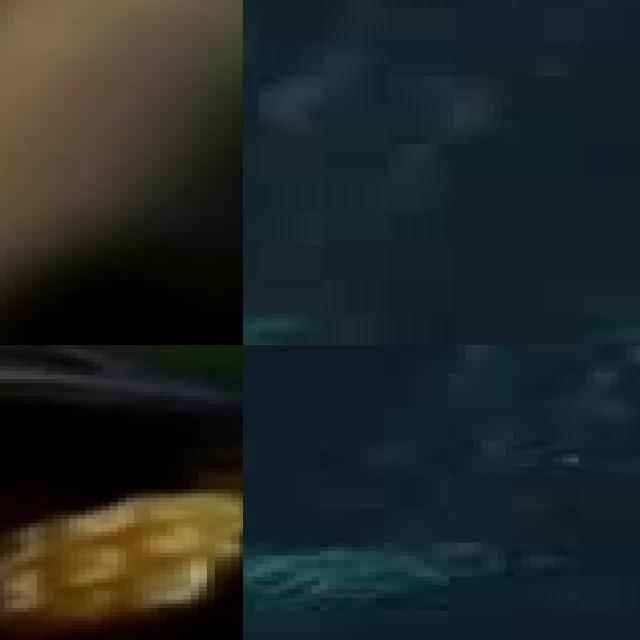fish: (0, 0, 243, 345), (0, 345, 243, 640)
